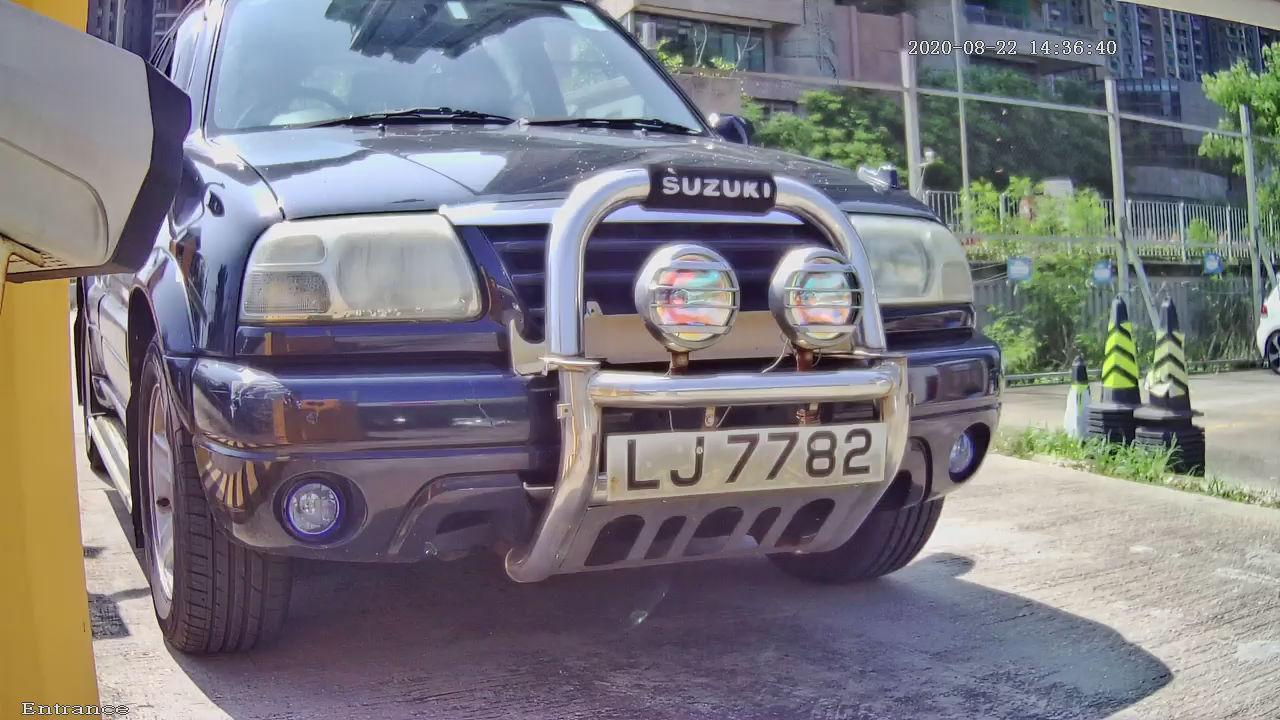License Plate: (559, 372, 930, 529)
